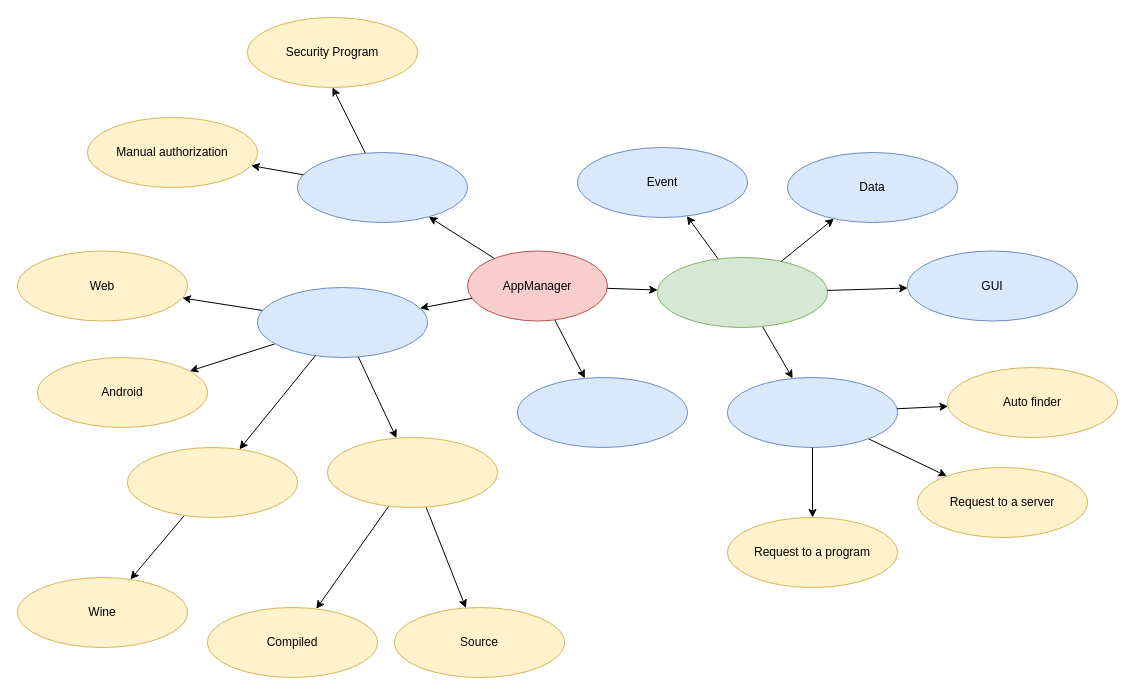
The diagram is 1135 pixels wide and 695 high, and some of its shapes have lost their labels. The centre of each missing label's shape, as x and y in pixels:
APIs: point 742,292
Delivre Program: point 412,472
Linux: point 212,482
Permissions: point 382,187
Program types: point 342,322
Request: point 812,412
Response: point 602,412
